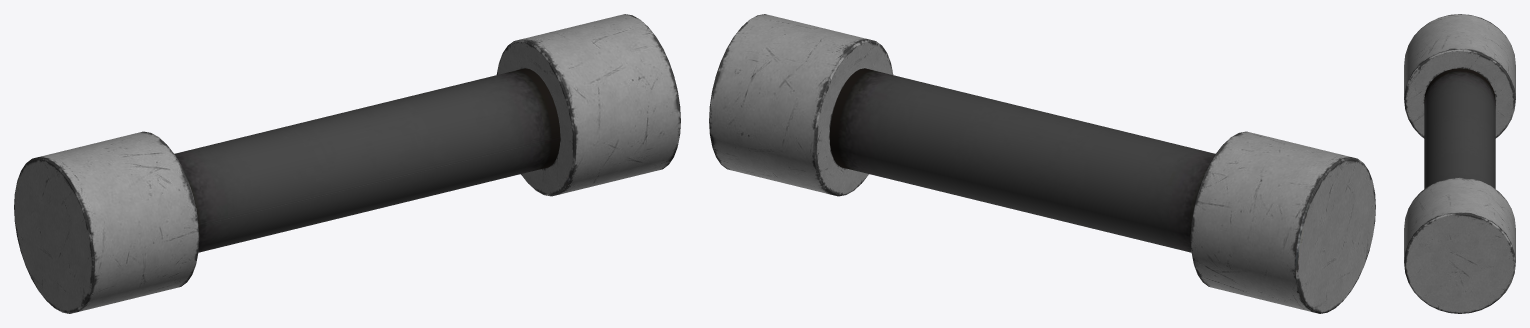
3 views of the same model, side by side, from view 1: azimuth 30°, elevation 25°; view 2: azimuth 150°, elevation 25°; view 3: azimuth 270°, elevation 25° (orthographic). The views are drawn at different scales.
Visible parts, largest first — view 1: Fuse; view 2: Fuse; view 3: Fuse.
Part boxes in pixels (left/top/right/bottom): Fuse: left=14, top=14, right=680, bottom=313; Fuse: left=709, top=14, right=1375, bottom=313; Fuse: left=1404, top=14, right=1515, bottom=313.
Bounding box in the file's own units: 11 × 2.6 × 2.6.
2 materials, 2 textured.
